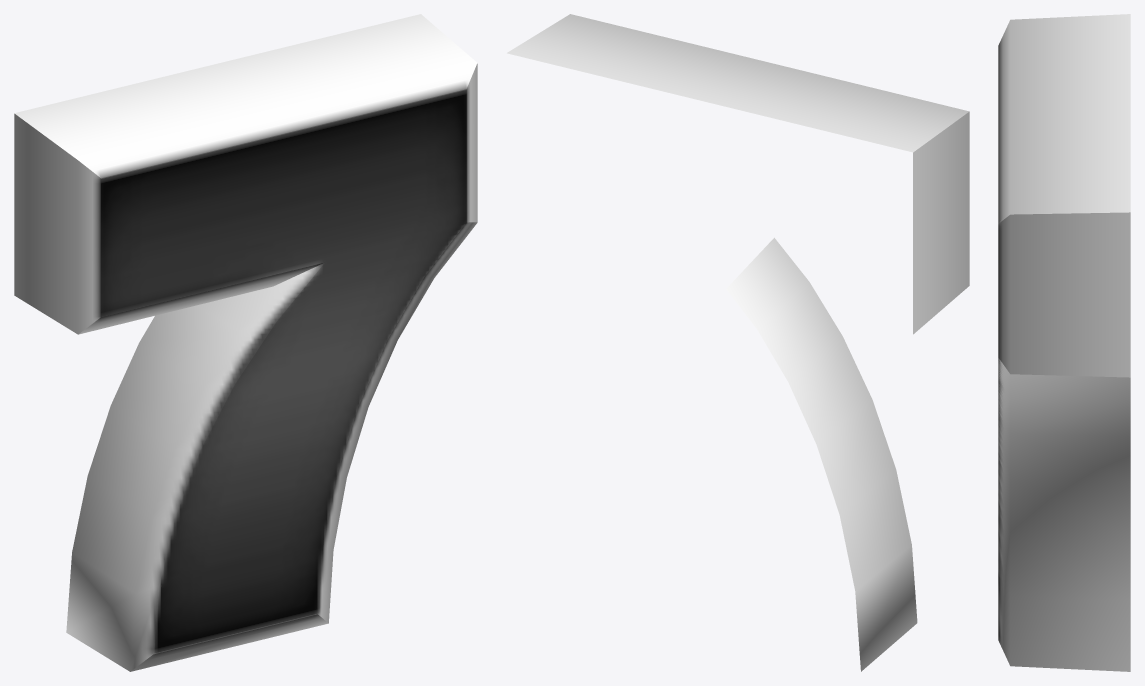
The model's file is bbl_score_model__score_7a.glb.
3 views of the same model, side by side, from view 1: azimuth 30°, elevation 25°; view 2: azimuth 150°, elevation 25°; view 3: azimuth 270°, elevation 25° (orthographic).
Parts seen in each view (by area): view 1: polygon1, polygon0; view 2: polygon0; view 3: polygon0.
Part boxes in pixels (x1,y1,x2,y2): polygon1: (101, 89, 466, 654); polygon0: (14, 14, 477, 671); polygon0: (507, 14, 969, 671); polygon0: (998, 14, 1130, 671).
Bounding box in the file's own units: 3.9 × 4.88 × 1.1.
2 materials, 2 textured.
